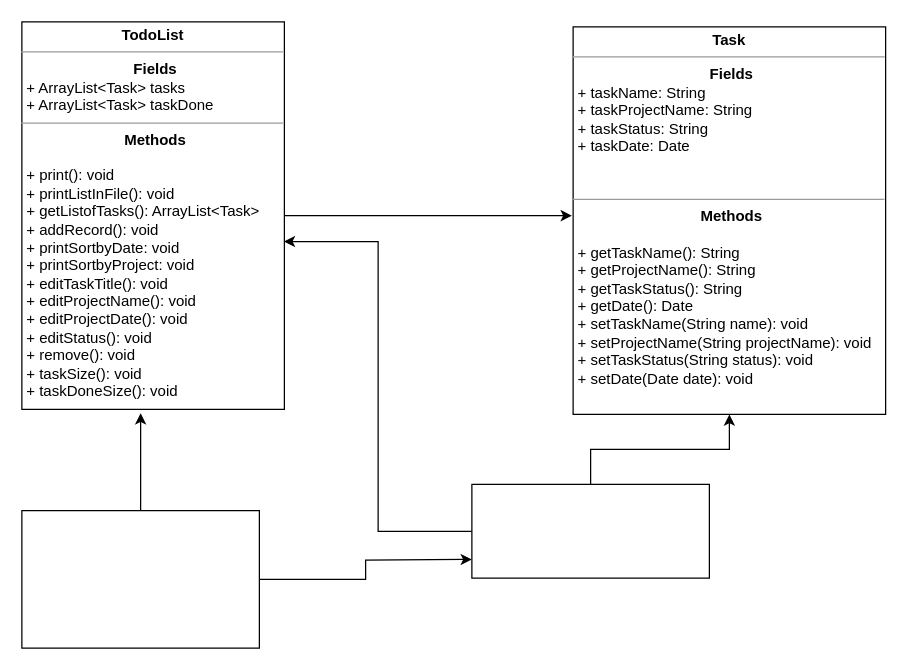
This 908x670 diagram has some shape labels left out. Here are the shapes that lost their labels. From the top down, the box of each, then its label:
(471, 483, 709, 578): Interface + todoList: TodoList + scanner: scanner
(21, 509, 259, 648): Main Methods + main(): static void
